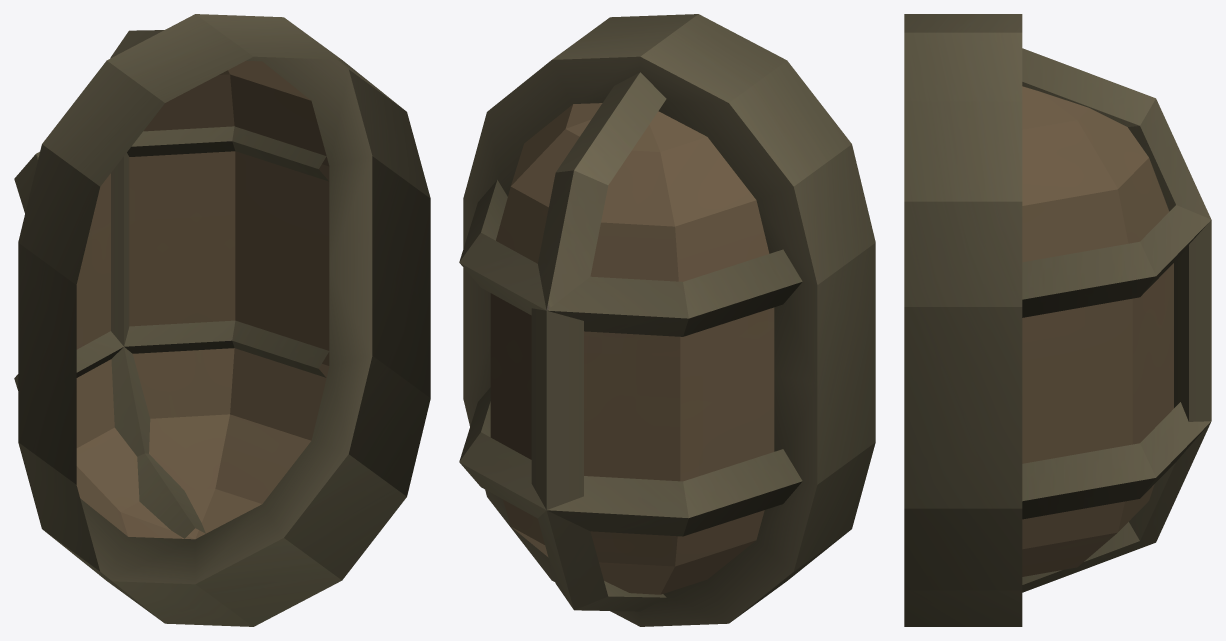
The model's file is SM_EN_CagedWallLamp.fbx.
3 renders of one model, left to right at view 1: azimuth 30°, elevation 25°; view 2: azimuth 150°, elevation 25°; view 3: azimuth 270°, elevation 25°, orthographic.
Visible parts, largest first — view 1: SM_EN_CagedWallLamp; view 2: SM_EN_CagedWallLamp; view 3: SM_EN_CagedWallLamp.
Boxes of the visible parts, <box> form: SM_EN_CagedWallLamp: <box>14,14,430,626</box>; SM_EN_CagedWallLamp: <box>459,14,875,626</box>; SM_EN_CagedWallLamp: <box>904,14,1211,626</box>.
Size of the model in its own units: 40.35 by 30 by 62.07.
